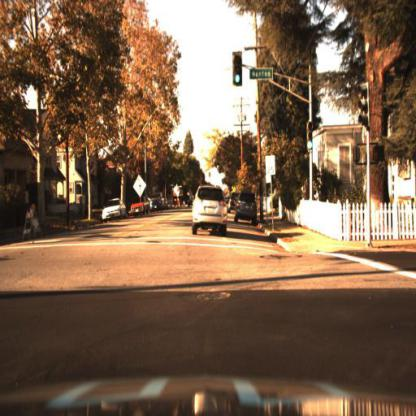car: (189, 183, 227, 232), (97, 197, 127, 224), (235, 191, 259, 224), (100, 198, 128, 220), (128, 199, 149, 222), (127, 198, 148, 219), (226, 192, 238, 217), (185, 192, 196, 211)
trafficLight-Green: (232, 50, 244, 90), (306, 120, 314, 157), (305, 137, 317, 158)
